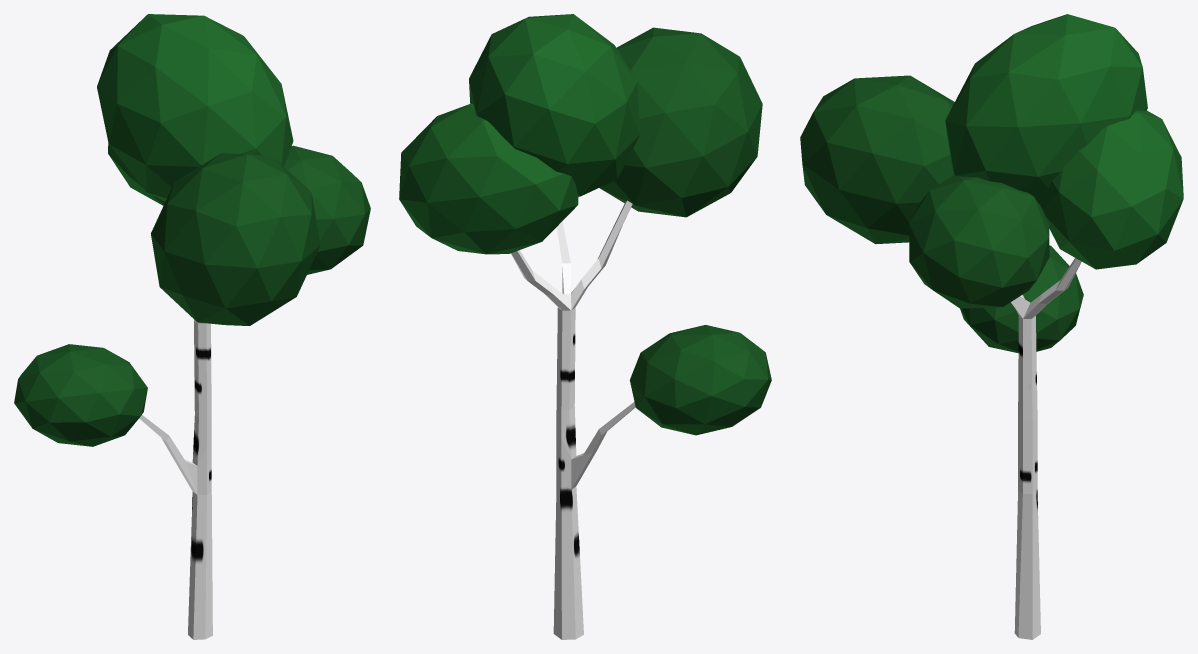
The model's file is birch04__mesh_LOD.fbx.
3 renders of one model, left to right at view 1: azimuth 30°, elevation 25°; view 2: azimuth 150°, elevation 25°; view 3: azimuth 270°, elevation 25°, orthographic. The views are drawn at different scales.
Visible parts, largest first — view 1: birch04__mesh_LOD0; view 2: birch04__mesh_LOD0; view 3: birch04__mesh_LOD0.
Part boxes in pixels (<box>): birch04__mesh_LOD0: <box>14,14,370,639</box>; birch04__mesh_LOD0: <box>399,14,771,639</box>; birch04__mesh_LOD0: <box>800,14,1183,639</box>.
Size of what is drawn, in the model's own units: 3864 by 6920 by 3940.
Materials: 6 (6 with a texture image).
